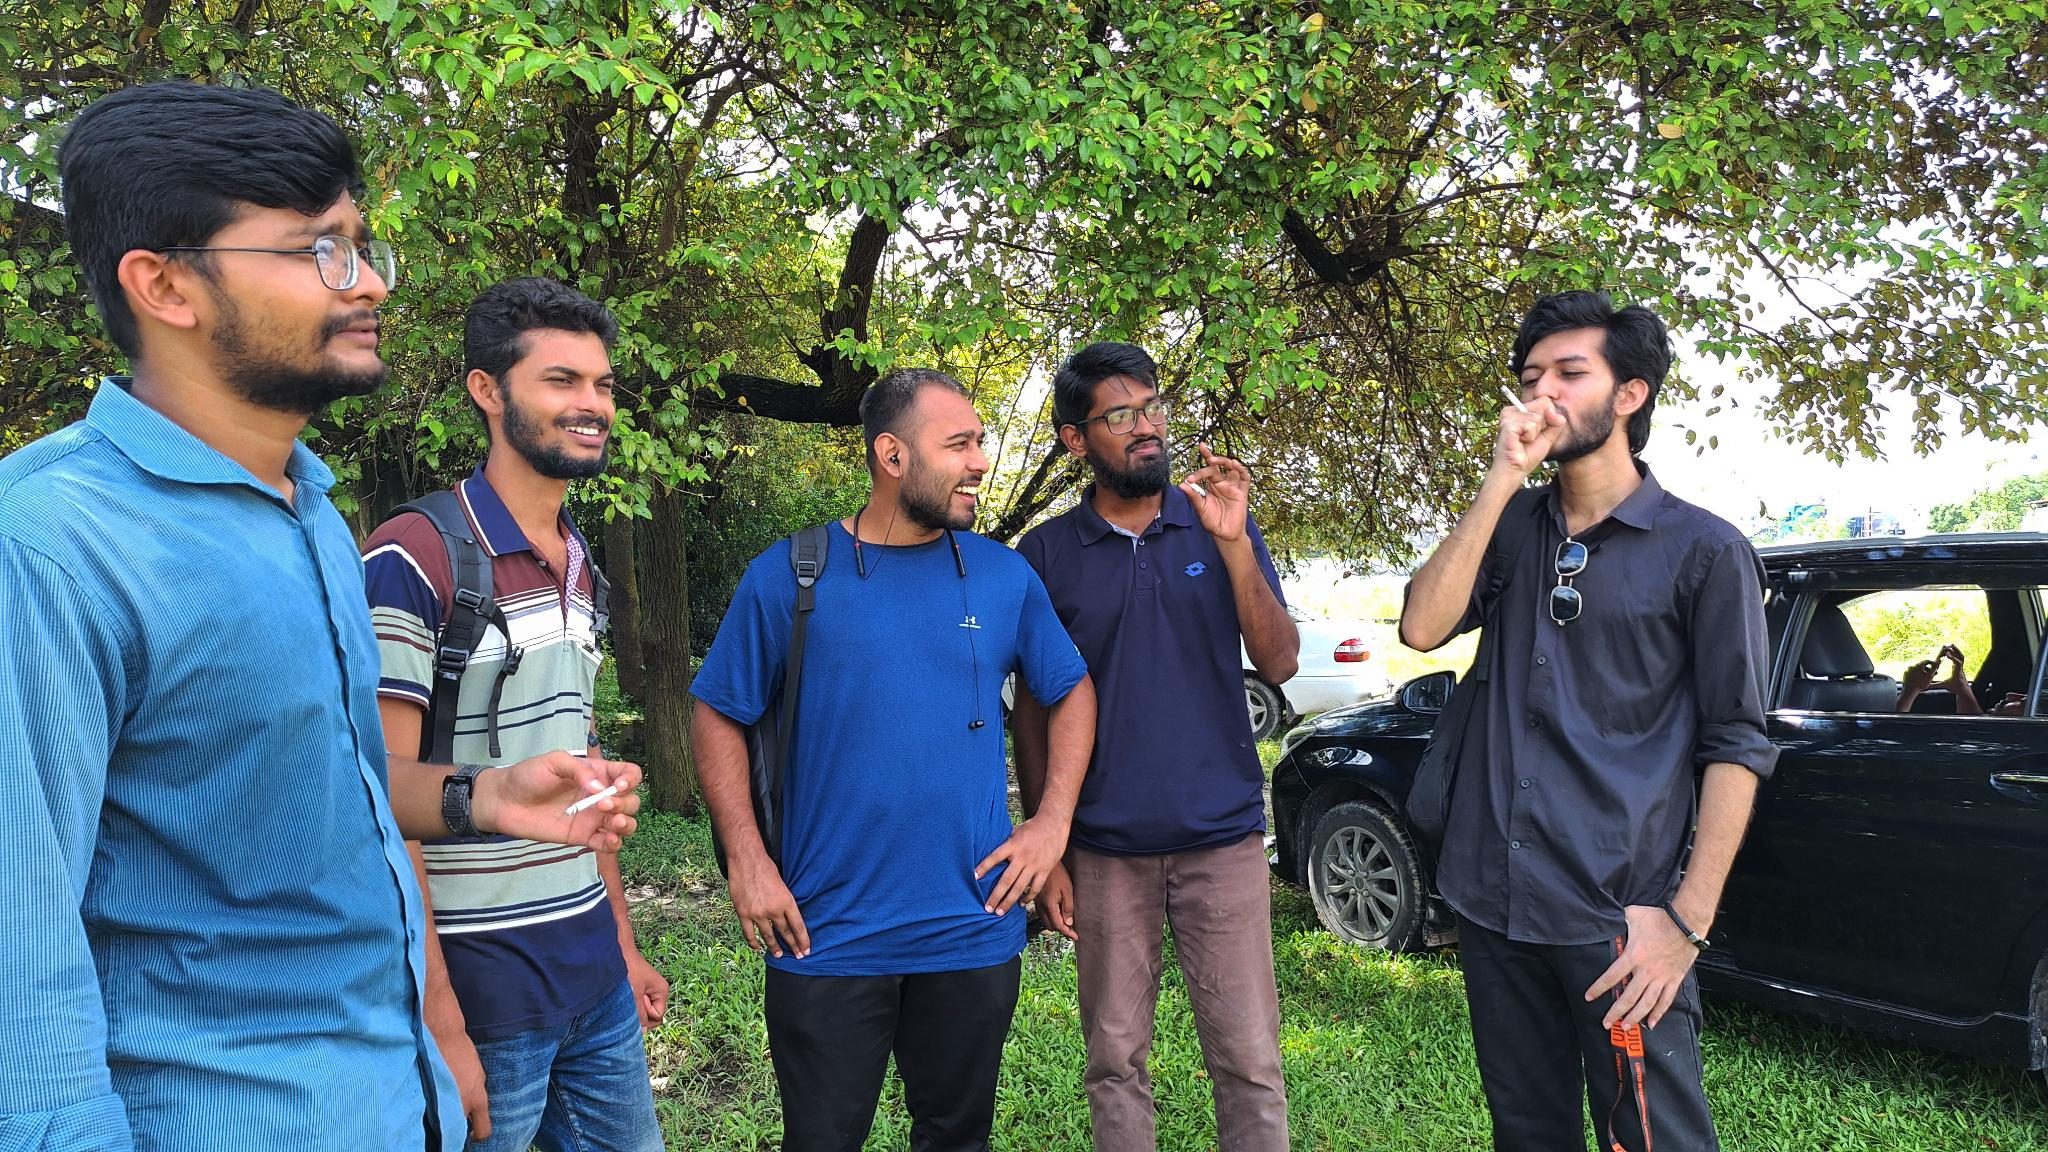cigarette: (561, 783, 620, 819), (1498, 383, 1530, 415), (1182, 477, 1208, 499)
nonSmoker: (689, 366, 1099, 1152), (363, 276, 668, 1152)
smoker: (0, 79, 641, 1152), (1395, 293, 1784, 1152), (1016, 340, 1301, 1152)
